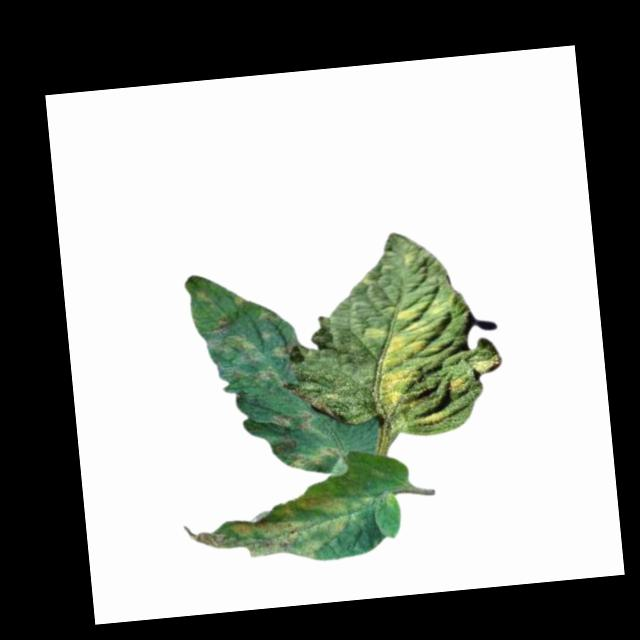Leaf_Mold: (181, 489, 350, 570), (362, 298, 445, 416), (207, 328, 264, 371), (286, 442, 343, 474), (265, 407, 315, 433), (252, 364, 287, 391), (413, 407, 452, 429), (258, 301, 282, 325), (448, 369, 470, 394), (269, 339, 293, 361)
